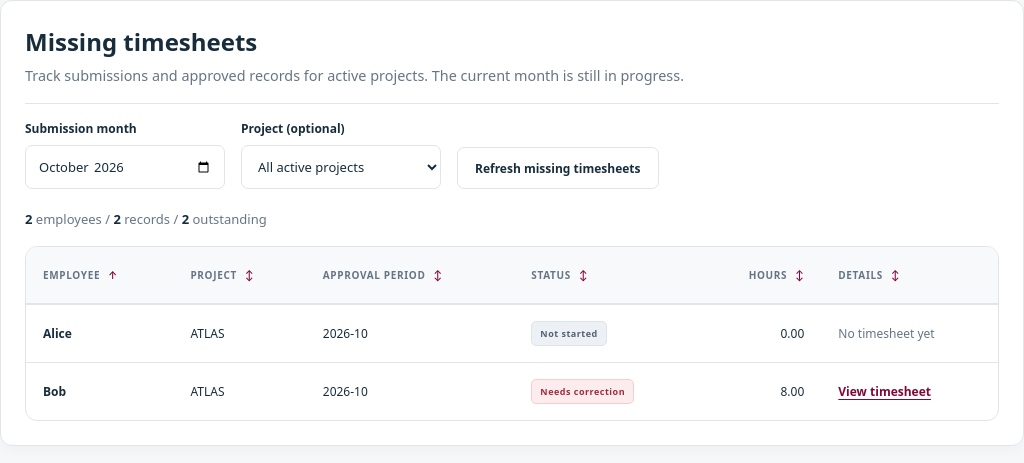
Scenario: lists employees without timesheets and reloads when month changes
expect the text "No timesheet yet" is shown: met, box [838, 325, 935, 342]
expect the text "Needs correction" is shown: met, box [531, 379, 634, 404]
Replace the text in the field labelled "Submission month" with "2026-08" at (125, 167), box [25, 145, 225, 189]
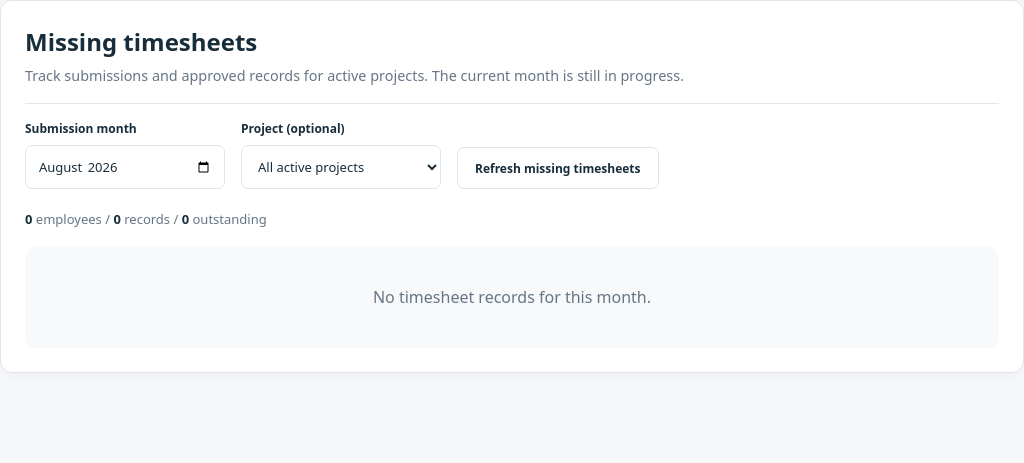
expect the text "No timesheet records for this month." is shown: met, box [373, 286, 651, 308]
